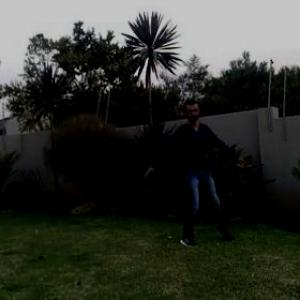land: (125, 95, 253, 252)
